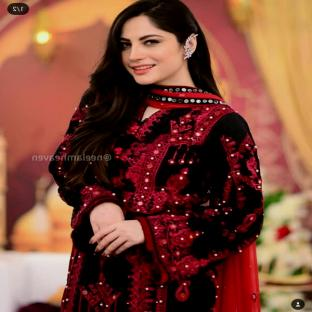Human: (49, 0, 264, 312)
